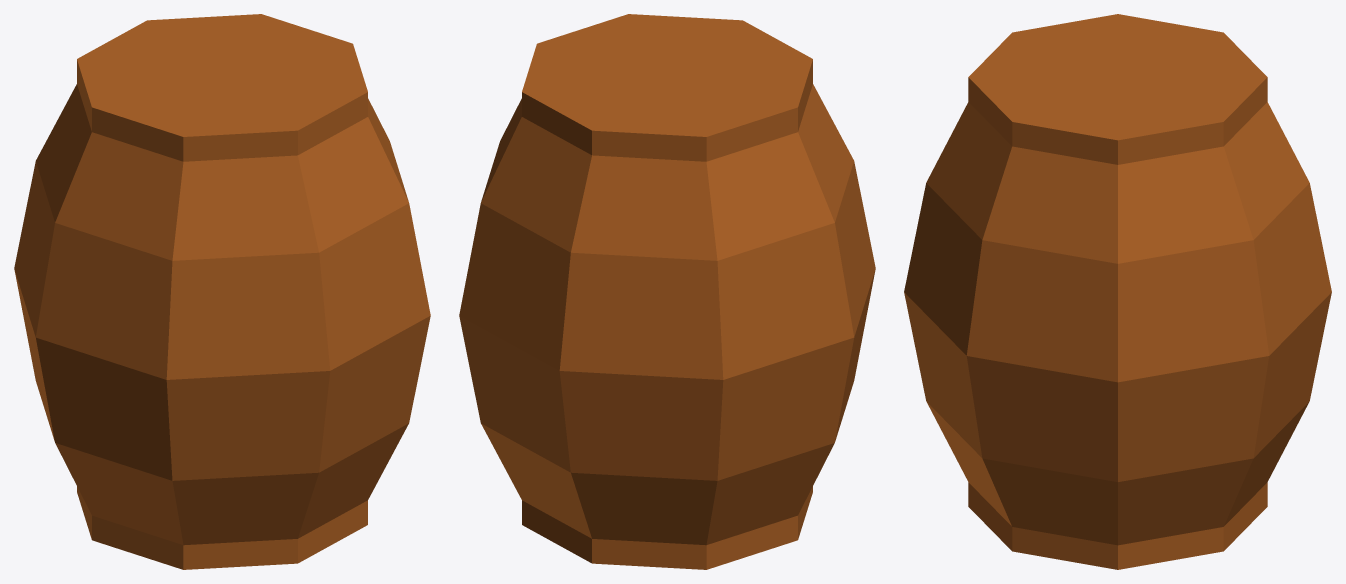
The model's file is cask.fbx.
3 renders of one model, left to right at view 1: azimuth 30°, elevation 25°; view 2: azimuth 150°, elevation 25°; view 3: azimuth 270°, elevation 25°, orthographic.
Parts seen in each view (by area): view 1: Cylinder; view 2: Cylinder; view 3: Cylinder.
Boxes of the visible parts, <box> form: Cylinder: <box>14,14,430,569</box>; Cylinder: <box>459,14,875,569</box>; Cylinder: <box>904,14,1331,569</box>.
Size of the model in its own units: 204 by 226 by 204.
